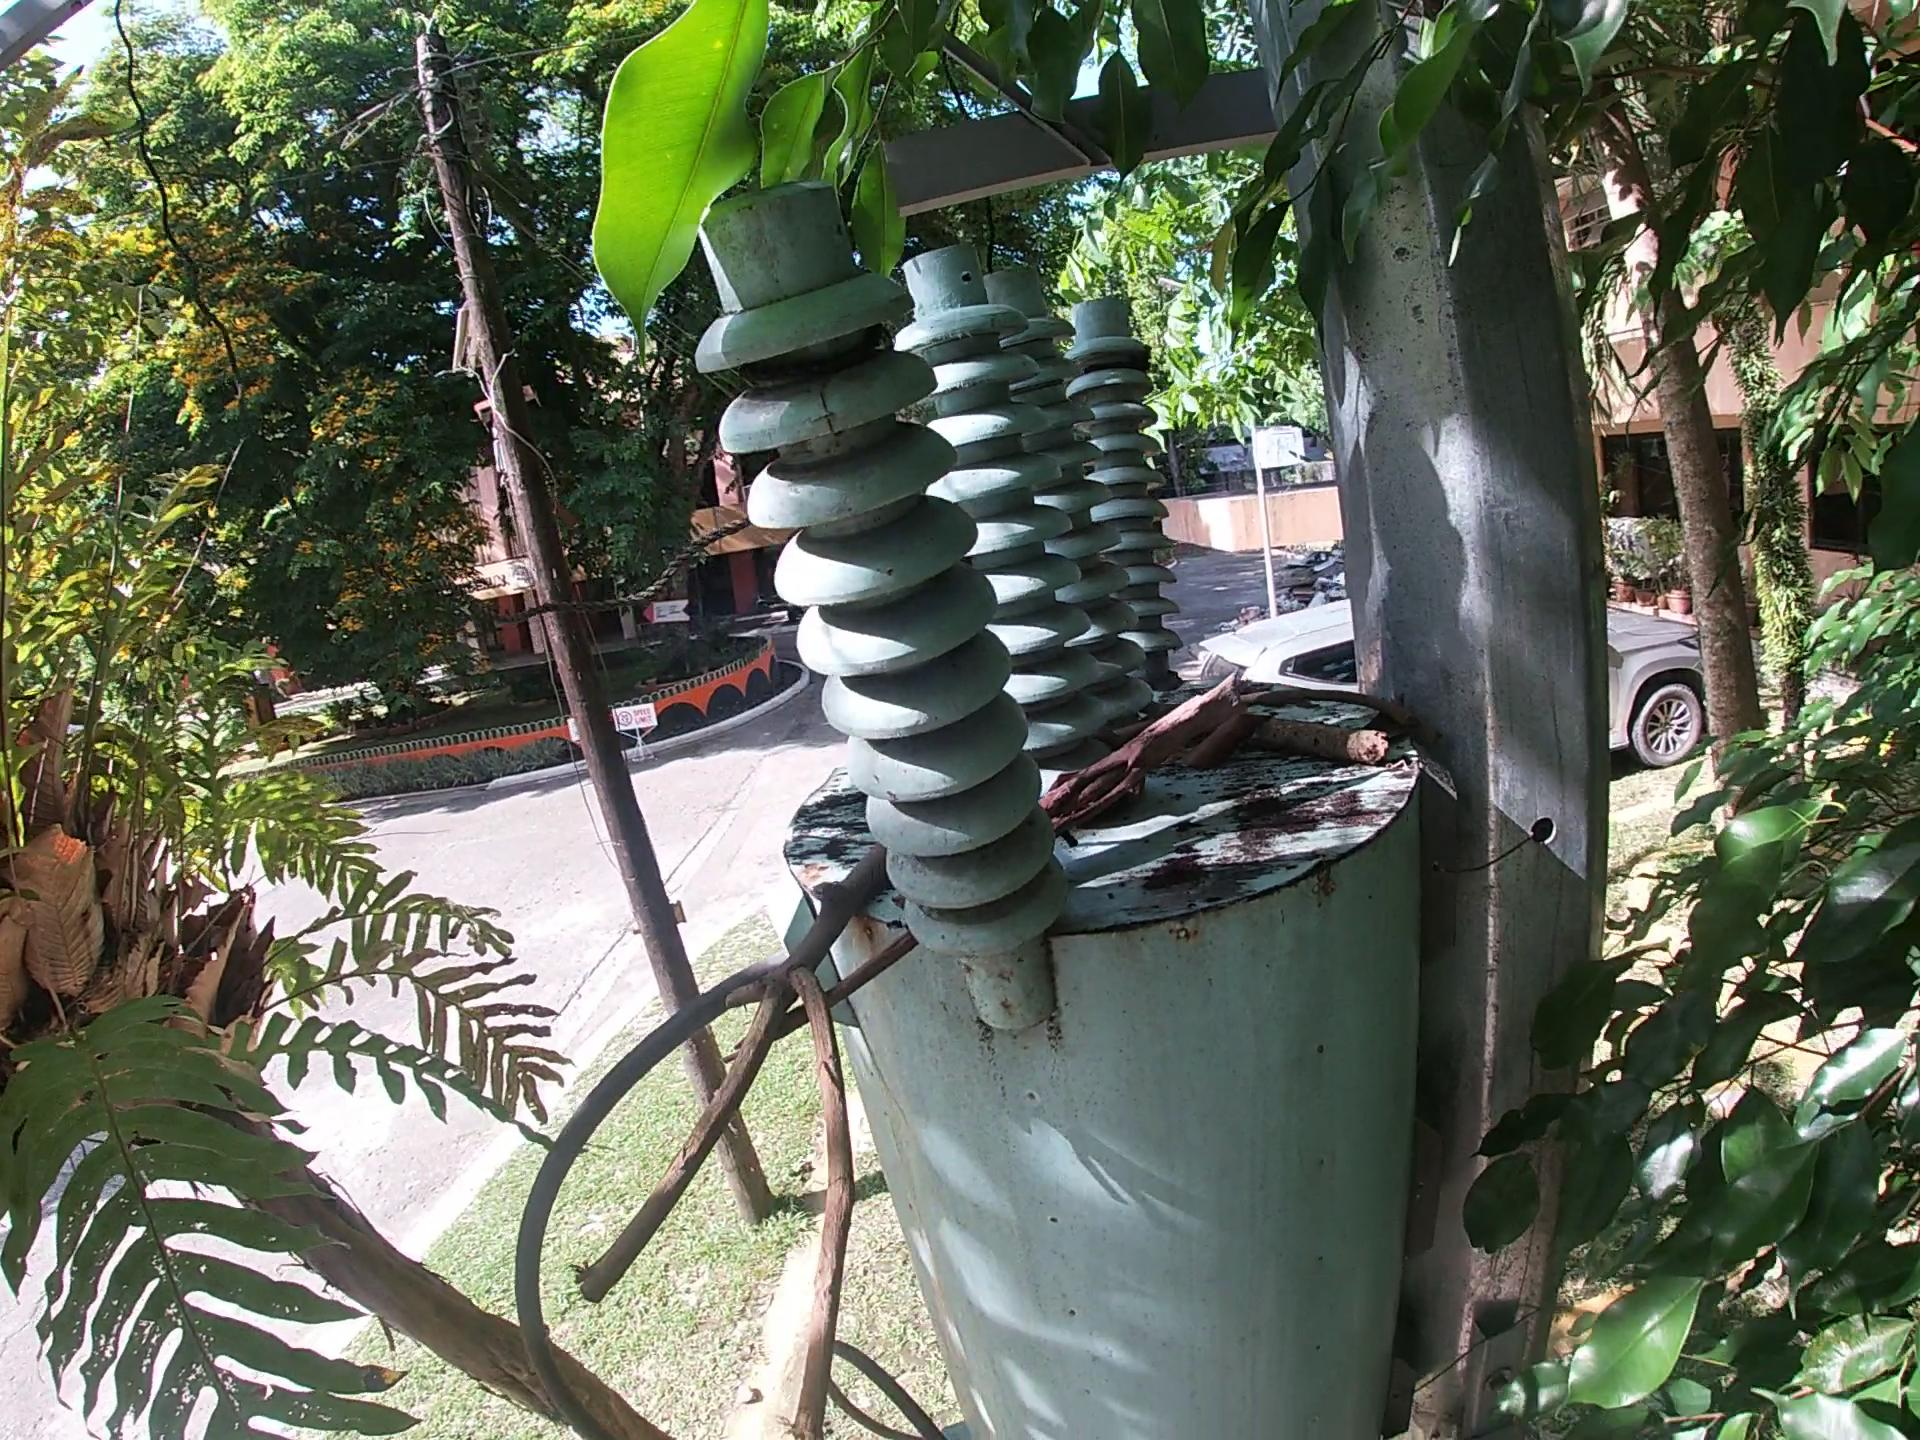leaf: (1172, 703, 1271, 781), (1359, 691, 1411, 744)
tree branch: (568, 841, 915, 1438), (1028, 664, 1249, 839), (717, 924, 927, 1069), (1232, 672, 1451, 764), (1243, 705, 1397, 767)
